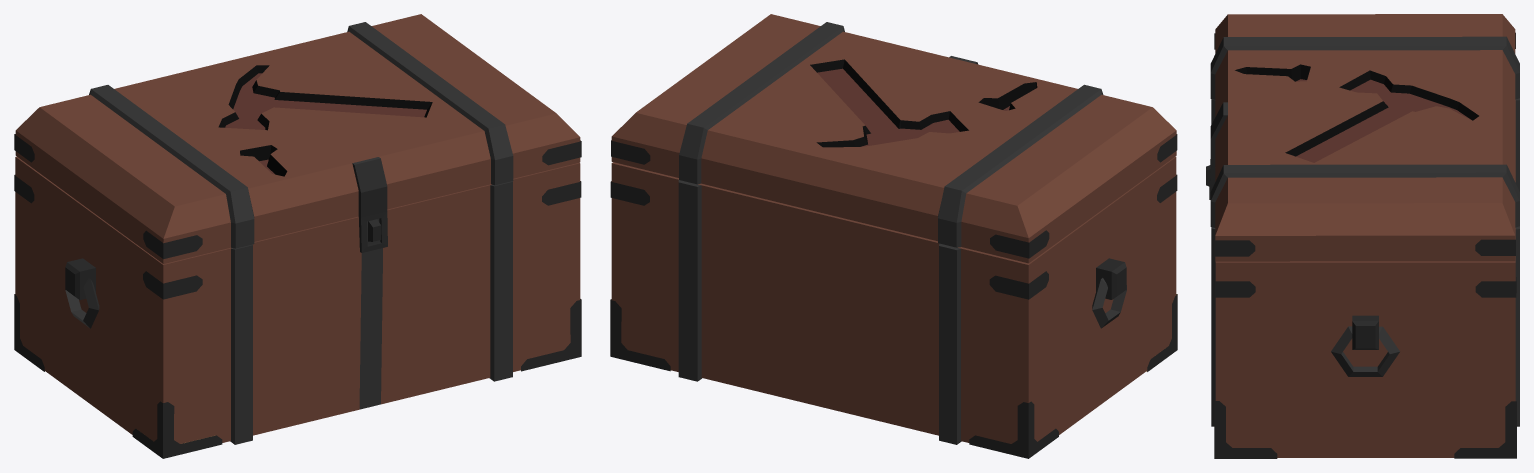
Rendered from tools_chest.fbx.
3 views of the same model, side by side, from view 1: azimuth 30°, elevation 25°; view 2: azimuth 150°, elevation 25°; view 3: azimuth 270°, elevation 25° (orthographic).
Visible parts, largest first — view 1: chest, chest_lid; view 2: chest, chest_lid; view 3: chest_lid, chest.
Part boxes in pixels (bbox=[...]): chest: bbox=[14, 156, 581, 458]; chest_lid: bbox=[14, 14, 581, 263]; chest: bbox=[610, 156, 1177, 458]; chest_lid: bbox=[611, 14, 1177, 263]; chest_lid: bbox=[1209, 14, 1519, 261]; chest: bbox=[1206, 98, 1519, 458].
Bounding box in the file's own units: 89.07 × 47.04 × 52.95.
